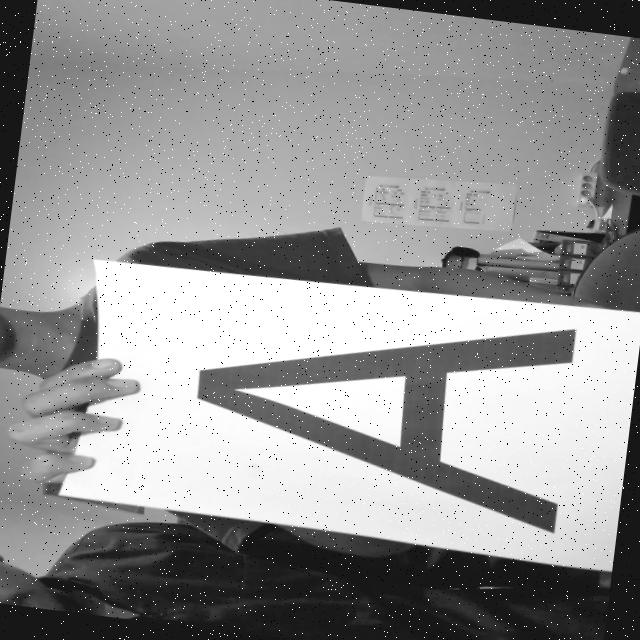a: (166, 266, 628, 548)
